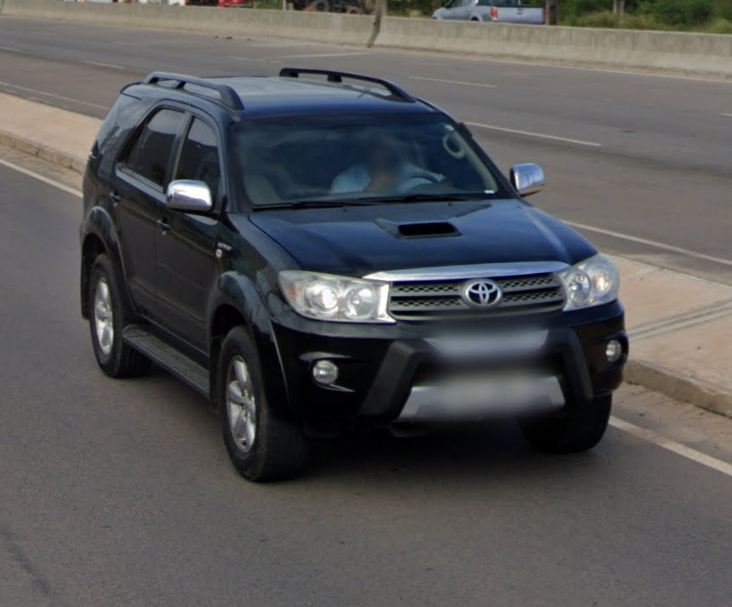car: (71, 61, 631, 484)
